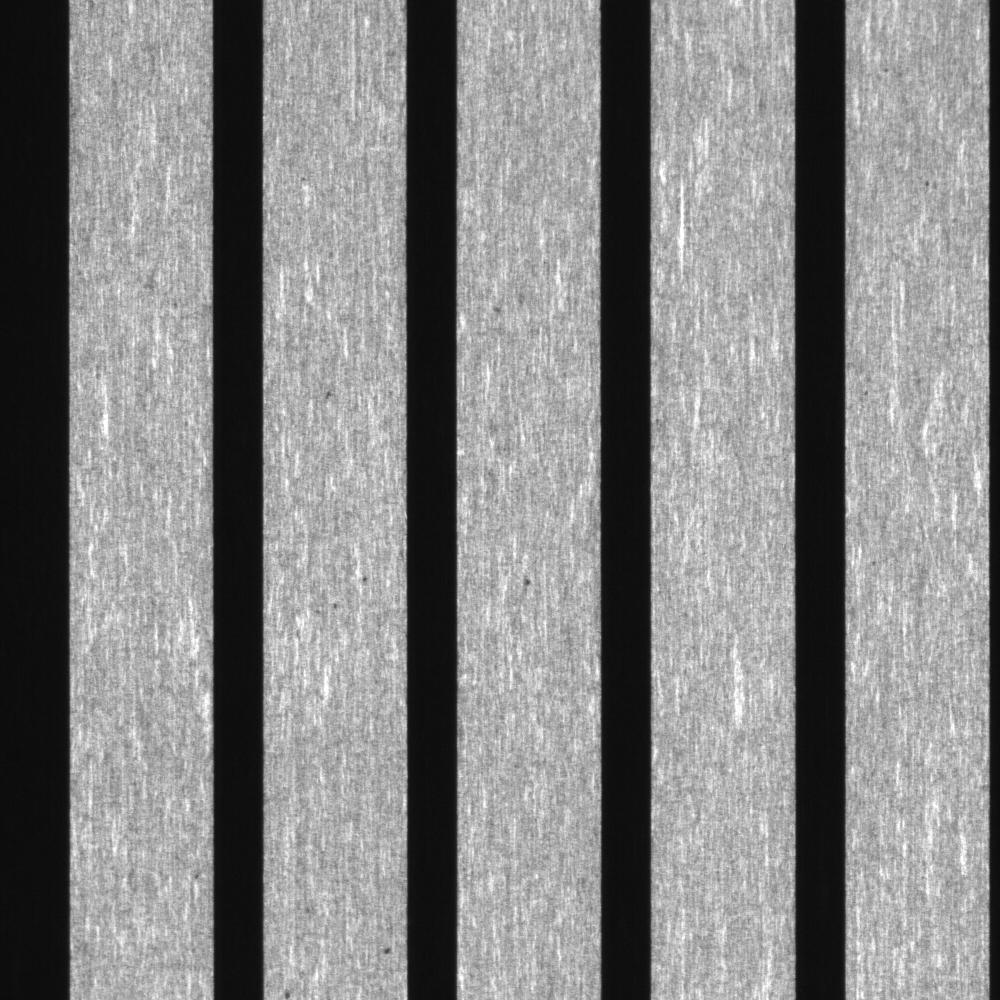Etching: (369, 930, 402, 967), (312, 380, 341, 413)
Pinhole: (508, 564, 544, 601), (353, 561, 377, 594), (321, 590, 349, 617), (915, 169, 944, 193), (276, 980, 303, 1000), (876, 60, 897, 82)
